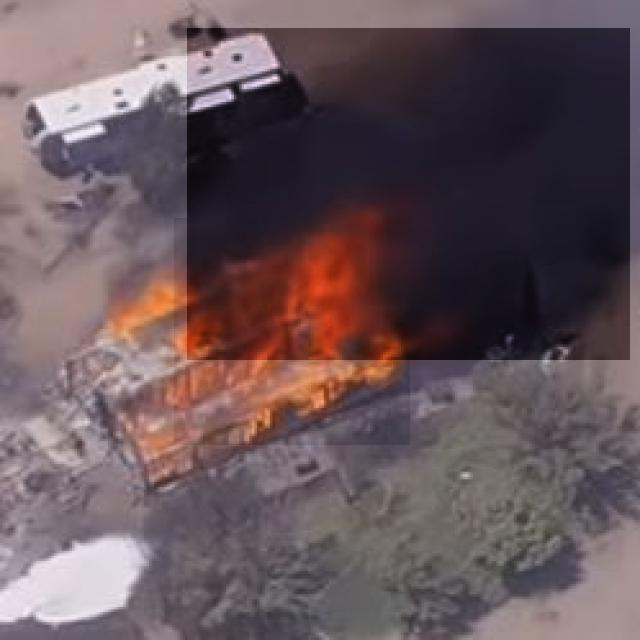Fire: (174, 218, 410, 445)
Smoke: (187, 28, 630, 360)
